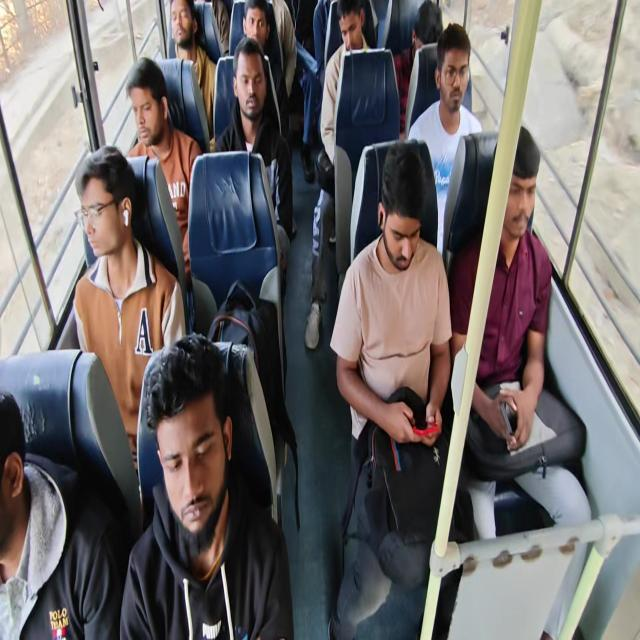person: (144, 344, 240, 556), (76, 144, 138, 266), (0, 380, 40, 552), (126, 50, 170, 148), (385, 165, 423, 274), (495, 139, 532, 234), (232, 43, 266, 125), (337, 2, 364, 64), (443, 48, 468, 111), (163, 0, 196, 45), (414, 8, 442, 56), (244, 7, 274, 51)
